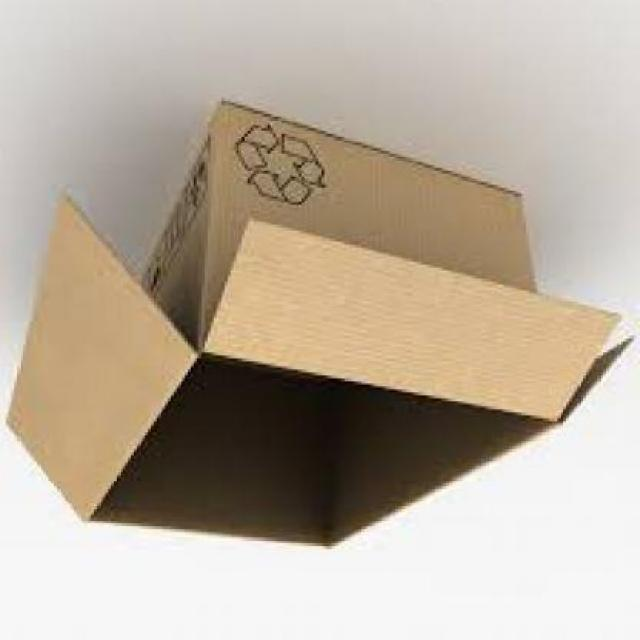box: (9, 103, 637, 552)
